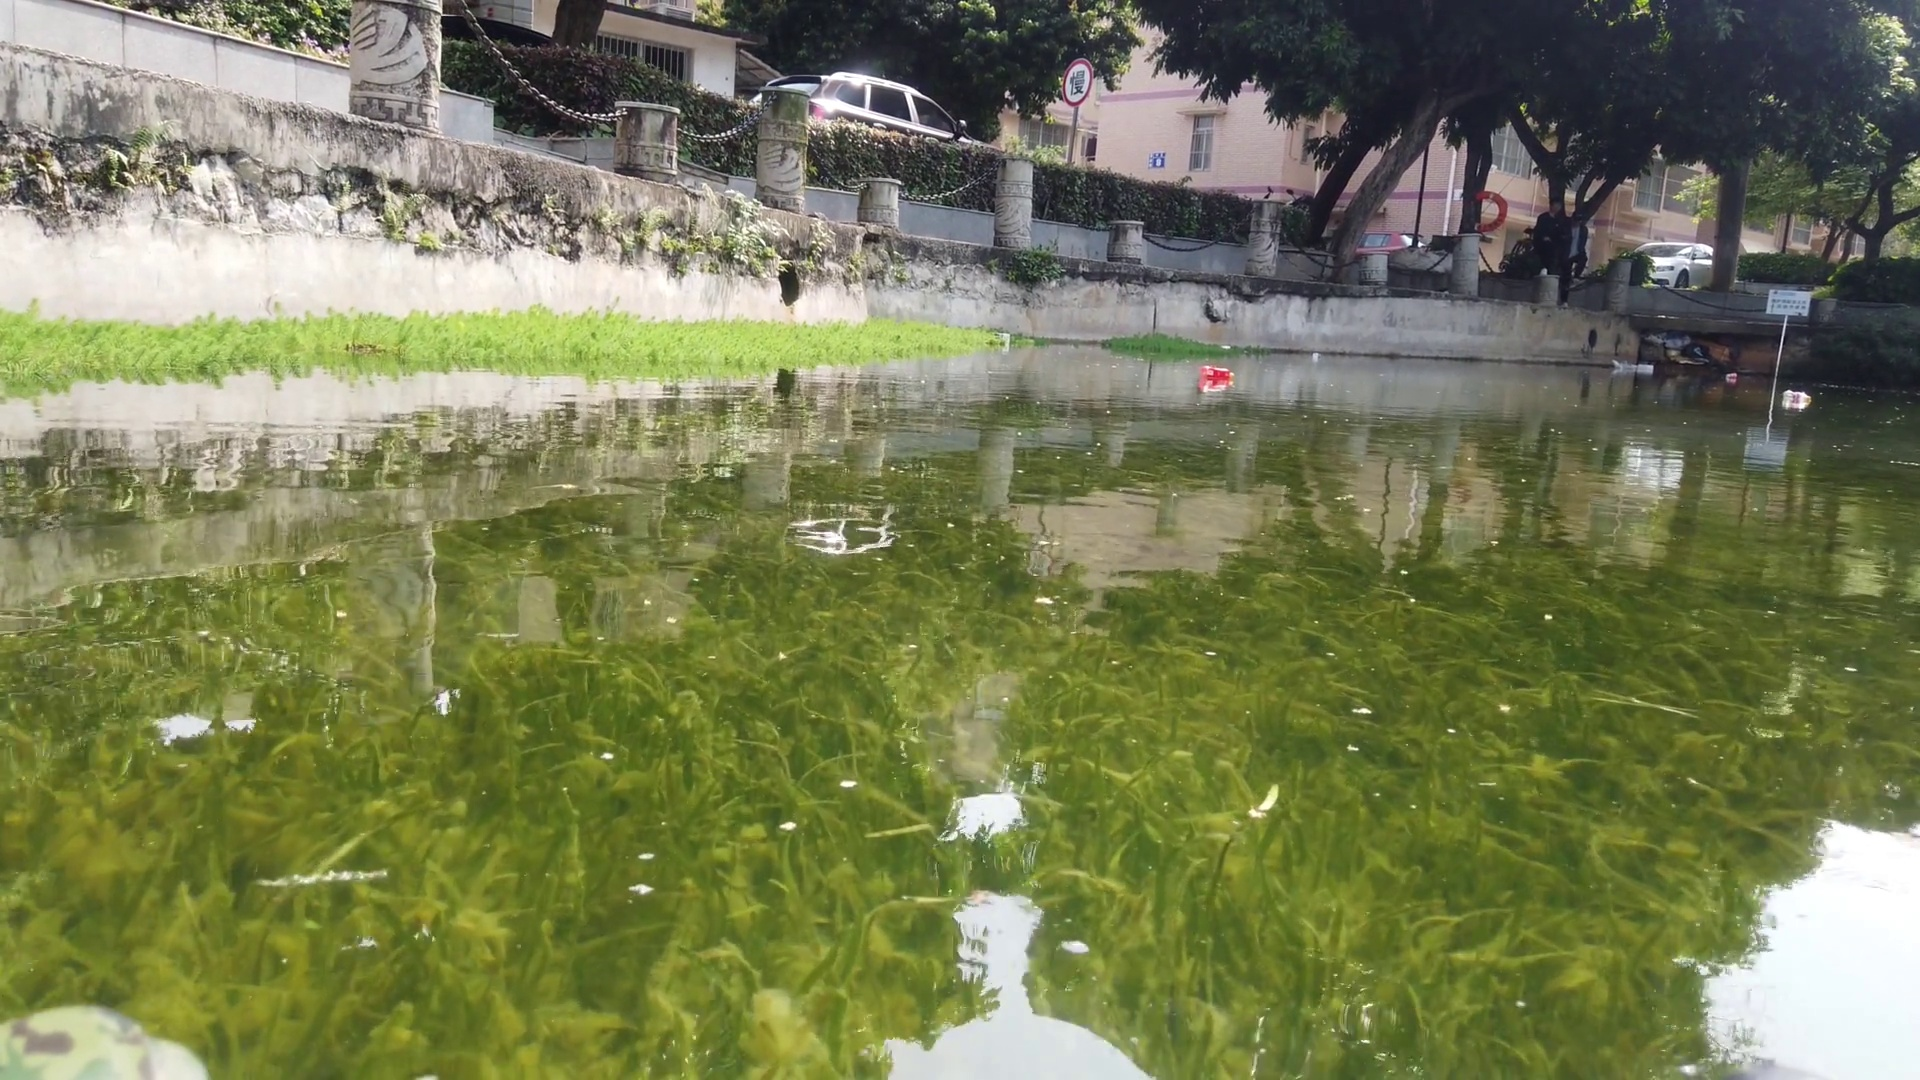bottle: (1196, 363, 1240, 384), (1782, 389, 1815, 405), (1726, 371, 1738, 382)
carton: (992, 328, 1014, 348), (1308, 348, 1323, 363), (1636, 363, 1655, 373)
plastic: (1610, 356, 1635, 373)
